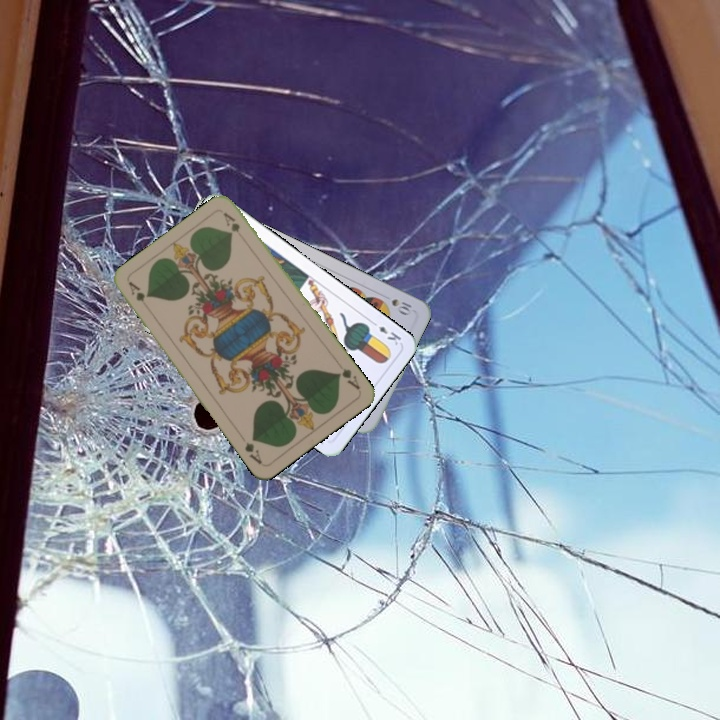EK: (367, 317, 404, 348)
GA: (124, 278, 153, 314), (333, 365, 363, 392)
S10: (387, 294, 414, 318)
